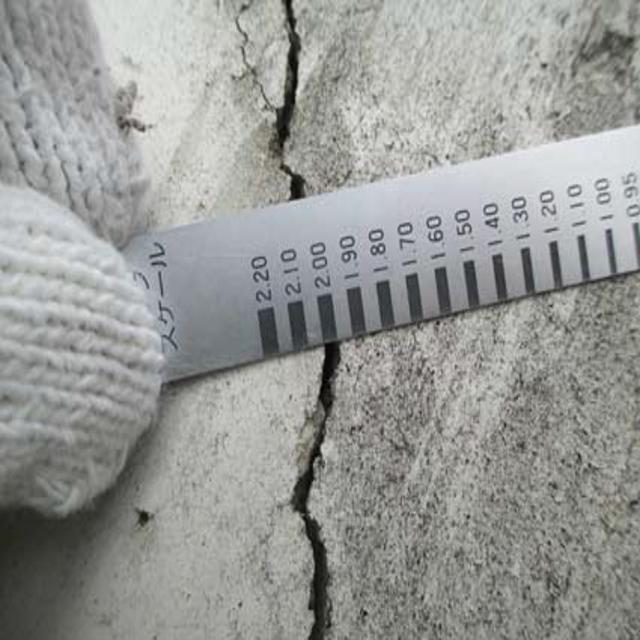crack: (223, 7, 324, 212), (284, 356, 356, 633)
